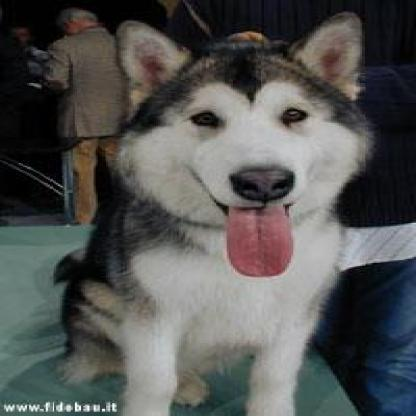malamute: (50, 9, 372, 413)
